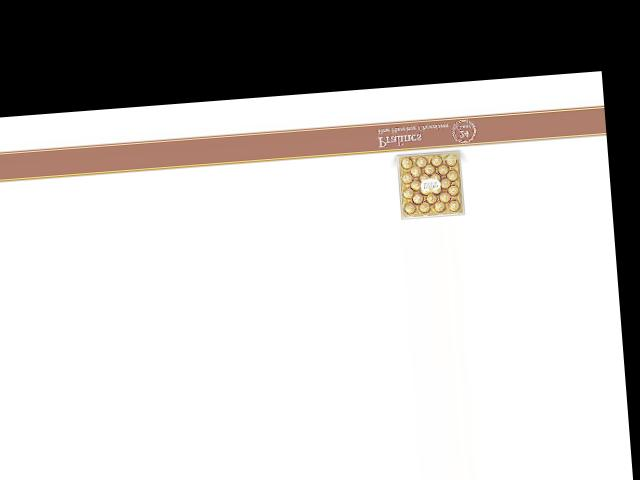chocolate: (393, 146, 469, 224)
